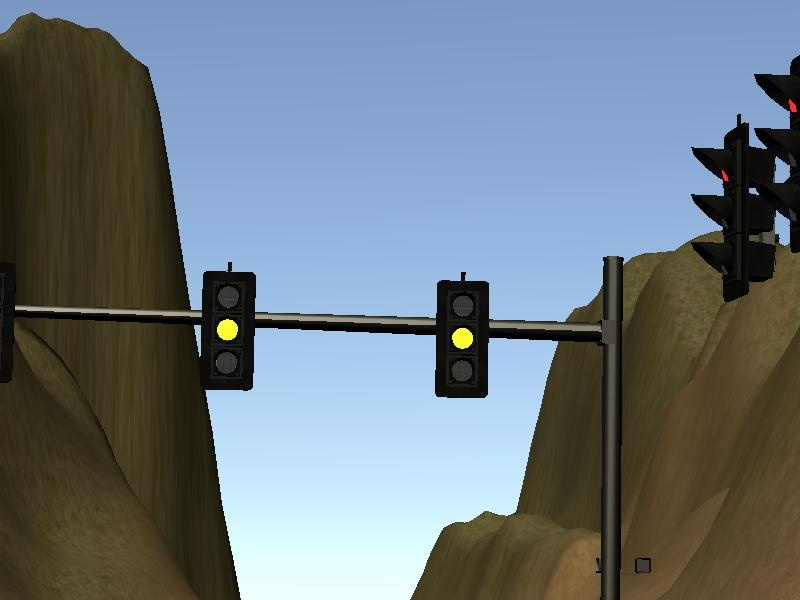YELLOW: (198, 265, 256, 391), (436, 276, 489, 402)
